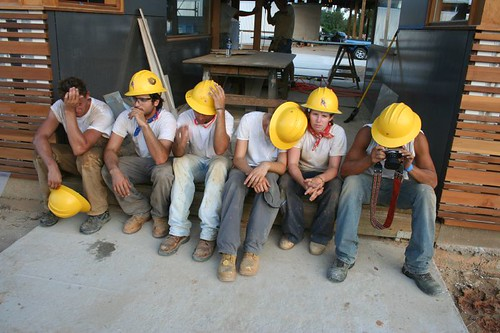hardhat: (45, 182, 95, 222)
person hardhat: (341, 92, 454, 301), (230, 99, 311, 276), (111, 69, 180, 232), (175, 78, 230, 258), (295, 82, 340, 258)
